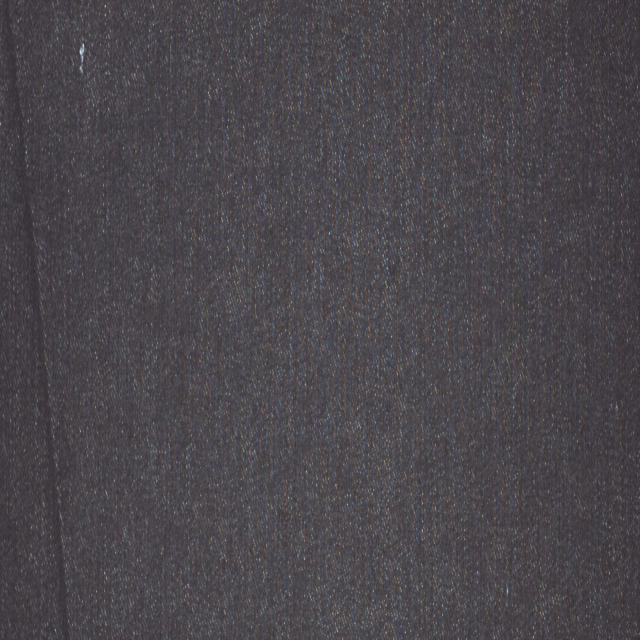Line: (4, 5, 74, 640)
